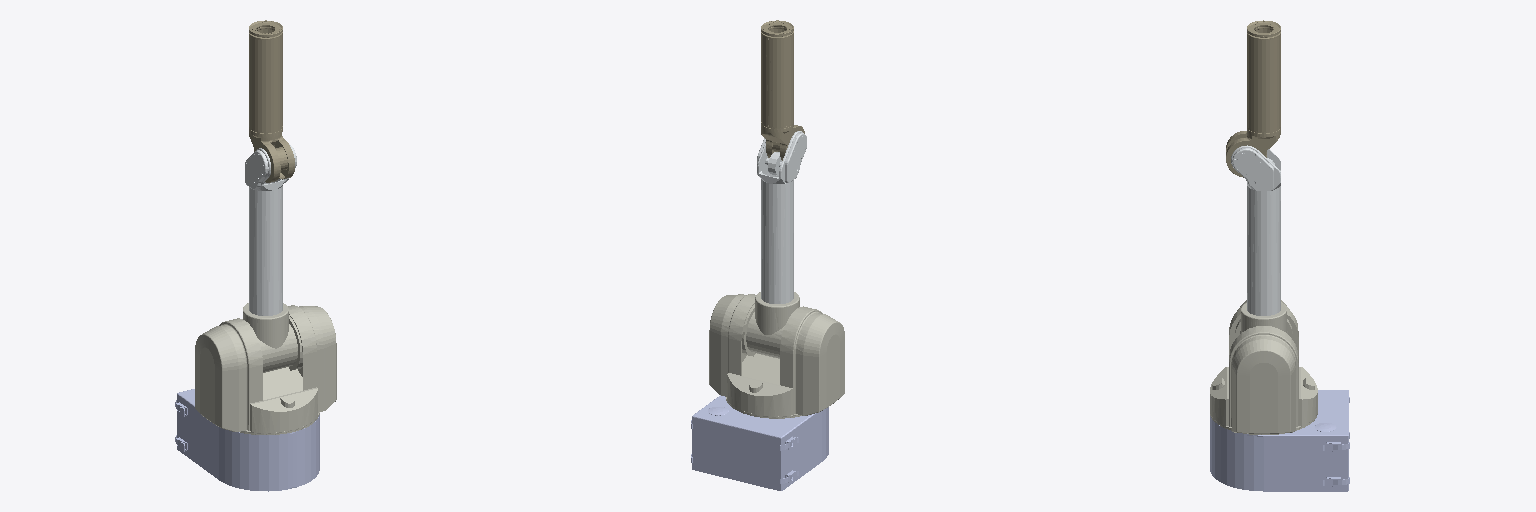
The robot description file, URDF, robot "wam4dof":
<?xml version="1.0" encoding="utf-8"?>
<!-- This URDF was automatically created by SolidWorks to URDF Exporter! Originally created by [author] ([email redacted]) 
     Commit Version: 1.5.1-0-g916b5db  Build Version: 1.5.7152.31018
     For more information, please see http://wiki.ros.org/sw_urdf_exporter -->
<robot
  name="wam4dof">
  <link
    name="base_link">
    <inertial>
      <origin
        xyz="3.40104668810698E-05 0.0736066059361039 -0.0587577266799806"
        rpy="0 0 0" />
      <mass
        value="13.5476126893973" />
      <inertia
        ixx="0.156470957074821"
        ixy="-4.03291630164834E-05"
        ixz="4.63998145785351E-05"
        iyy="0.214731752462203"
        iyz="0.00513845865911243"
        izz="0.108286175637366" />
    </inertial>
    <visual>
      <origin
        xyz="0 0 0"
        rpy="0 0 0" />
      <geometry>
        <mesh
          filename="package://wam_sim/launch/wam4dof/meshes/base_link.STL" />
      </geometry>
      <material
        name="">
        <color
          rgba="0.792156862745098 0.819607843137255 0.933333333333333 1" />
      </material>
    </visual>
    <collision>
      <origin
        xyz="0 0 0"
        rpy="0 0 0" />
      <geometry>
        <mesh
          filename="package://wam_sim/launch/wam4dof/meshes/base_link.STL" />
      </geometry>
    </collision>
  </link>
  <link
    name="FirstLink">
    <inertial>
      <origin
        xyz="2.53990162847128E-08 0.104881717494166 3.04922796016718E-09"
        rpy="0 0 0" />
      <mass
        value="17.3731551398704" />
      <inertia
        ixx="0.276162321852689"
        ixy="5.20061008372045E-08"
        ixz="7.60373821026883E-08"
        iyy="0.237968754825239"
        iyz="3.79403873882493E-09"
        izz="0.145688610159368" />
    </inertial>
    <visual>
      <origin
        xyz="0 0 0"
        rpy="0 0 0" />
      <geometry>
        <mesh
          filename="package://wam_sim/launch/wam4dof/meshes/FirstLink.STL" />
      </geometry>
      <material
        name="">
        <color
          rgba="0.796078431372549 0.796078431372549 0.752941176470588 1" />
      </material>
    </visual>
    <collision>
      <origin
        xyz="0 0 0"
        rpy="0 0 0" />
      <geometry>
        <mesh
          filename="package://wam_sim/launch/wam4dof/meshes/FirstLink.STL" />
      </geometry>
    </collision>
  </link>
  <joint
    name="q1"
    type="revolute">
    <origin
      xyz="0 0 0.16"
      rpy="1.5708 0 1.5708" />
    <parent
      link="base_link" />
    <child
      link="FirstLink" />
    <axis
      xyz="0 1 0" />
    <limit
      lower="-2.6"
      upper="2.6"
      effort="0"
      velocity="0" />
  </joint>
  <link
    name="SecondLink">
    <inertial>
      <origin
        xyz="-3.3073356588952E-06 0.0504592578779876 -1.9386722993241E-05"
        rpy="0 0 0" />
      <mass
        value="0.617554855470771" />
      <inertia
        ixx="0.00258552588913393"
        ixy="-1.52178232455456E-08"
        ixz="-4.72455503359287E-08"
        iyy="0.00186310872414462"
        iyz="3.58033312144958E-08"
        izz="0.00227630686304741" />
    </inertial>
    <visual>
      <origin
        xyz="0 0 0"
        rpy="0 0 0" />
      <geometry>
        <mesh
          filename="package://wam_sim/launch/wam4dof/meshes/SecondLink.STL" />
      </geometry>
      <material
        name="">
        <color
          rgba="0.796078431372549 0.796078431372549 0.752941176470588 1" />
      </material>
    </visual>
    <collision>
      <origin
        xyz="0 0 0"
        rpy="0 0 0" />
      <geometry>
        <mesh
          filename="package://wam_sim/launch/wam4dof/meshes/SecondLink.STL" />
      </geometry>
    </collision>
  </link>
  <joint
    name="q2"
    type="revolute">
    <origin
      xyz="0 0.186 0"
      rpy="3.1416 -1.5708 3.1416" />
    <parent
      link="FirstLink" />
    <child
      link="SecondLink" />
    <axis
      xyz="1 0 0" />
    <limit
      lower="-2"
      upper="2"
      effort="0"
      velocity="0" />
  </joint>
  <link
    name="ThirdLink">
    <inertial>
      <origin
        xyz="9.06095709371319E-06 0.79471468339664 -0.0130869016439969"
        rpy="0 0 0" />
      <mass
        value="1.38872635233445" />
      <inertia
        ixx="0.0300789785129619"
        ixy="-1.13635275781099E-06"
        ixz="2.68391703177075E-07"
        iyy="0.00292729996562077"
        iyz="0.00176956641651549"
        izz="0.0304265850675373" />
    </inertial>
    <visual>
      <origin
        xyz="0 0 0"
        rpy="0 0 0" />
      <geometry>
        <mesh
          filename="package://wam_sim/launch/wam4dof/meshes/ThirdLink.STL" />
      </geometry>
      <material
        name="">
        <color
          rgba="0.898039215686275 0.917647058823529 0.929411764705882 1" />
      </material>
    </visual>
    <collision>
      <origin
        xyz="0 0 0"
        rpy="0 0 0" />
      <geometry>
        <mesh
          filename="package://wam_sim/launch/wam4dof/meshes/ThirdLink.STL" />
      </geometry>
    </collision>
  </link>
  <joint
    name="q3"
    type="revolute">
    <origin
      xyz="0 -0.346 0"
      rpy="3.1416 0 -3.1416" />
    <parent
      link="SecondLink" />
    <child
      link="ThirdLink" />
    <axis
      xyz="0 1 0" />
    <limit
      lower="-2.8"
      upper="2.8"
      effort="0"
      velocity="0" />
  </joint>
  <link
    name="FourthLink">
    <inertial>
      <origin
        xyz="4.97245046301318E-07 0.0449944772820914 0.235880484538515"
        rpy="0 0 0" />
      <mass
        value="176061.840482555" />
      <inertia
        ixx="702.26848763124"
        ixy="-0.0381965038623444"
        ixz="-0.0039041419617575"
        iyy="702.827652770772"
        iyz="-0.0153100690126369"
        izz="299.798441788385" />
    </inertial>
    <visual>
      <origin
        xyz="0 0 0"
        rpy="0 0 0" />
      <geometry>
        <mesh
          filename="package://wam_sim/launch/wam4dof/meshes/FourthLink.STL" />
      </geometry>
      <material
        name="">
        <color
          rgba="0.666666666666667 0.63921568627451 0.556862745098039 1" />
      </material>
    </visual>
    <collision>
      <origin
        xyz="0 0 0"
        rpy="0 0 0" />
      <geometry>
        <mesh
          filename="package://wam_sim/launch/wam4dof/meshes/FourthLink.STL" />
      </geometry>
    </collision>
  </link>
  <link name="bhand_ftsensor">
    <inertial>
  	  <mass value="0.06864753"/>
	  <origin xyz="0 0 0" />  
	  <inertia ixx="1.0" ixy="0.0" ixz="0.0" iyy="1.0" iyz="0.0" izz="1.0"/>
	</inertial>
	<visual>
      <origin rpy="0 0 0" xyz="0 0 0"/>
      <geometry name="link_bhand_ftsensor_visual">
        <mesh filename="package://wam_sim/launch/wam7dof/meshes/bhand_ftsensor.mesh" />
      </geometry>
      <material
        name="">
        <color
          rgba="0.792156862745098 0.819607843137255 0.933333333333333 1" />
      </material>
    </visual>
    <collision>
      <origin rpy="0 0 0" xyz="0 0 0"/>
      <geometry name="link_bhand_ftsensor_collision">
        <mesh filename="package://wam_sim/launch/wam7dof/meshes/bhand_ftsensor.mesh" />
      </geometry>
      <contact_coefficients kd="1.0" kp="1000.0" mu="0"/>
    </collision>
  </link>  
  <joint
    name="q4"
    type="revolute">
    <origin
      xyz="0 0.896 -0.045"
      rpy="1.5706 0 3.1416" />
    <parent
      link="ThirdLink" />
    <child
      link="FourthLink" />
    <axis
      xyz="1 0 0" />
    <limit
      lower="-0.9"
      upper="3.1"  
      effort="0"
      velocity="0" />
  </joint>
  <joint name="bhand_ftsensor_joint" type="fixed">
    <parent link="FourthLink"/>
    <child link="bhand_ftsensor" />
    <origin xyz="0 0.045 0.355" rpy="1.5706 0 0" />
  </joint>
</robot>

--- Render facts (derived) ---
Views: 3 orthographic renders of the robot side by side, from view 1: azimuth 30°, elevation 25°; view 2: azimuth 150°, elevation 25°; view 3: azimuth 270°, elevation 25°.
Robot: wam4dof — 6 links, 5 joints (4 revolute, 1 fixed); root link base_link; default pose: every joint at zero.
Visible links, largest first — view 1: FirstLink, base_link, ThirdLink, FourthLink, SecondLink; view 2: FirstLink, base_link, ThirdLink, FourthLink, SecondLink; view 3: FirstLink, base_link, ThirdLink, FourthLink, SecondLink.
Boxes of the visible links, x1,y1,x2,y2 form: FirstLink: (195,305,336,434); base_link: (175,389,319,491); ThirdLink: (245,144,296,315); FourthLink: (249,20,294,182); SecondLink: (243,303,297,372); FirstLink: (709,294,844,418); base_link: (691,395,828,490); ThirdLink: (757,131,806,303); FourthLink: (761,20,804,160); SecondLink: (746,292,799,358); FirstLink: (1210,300,1317,434); base_link: (1210,390,1349,491); ThirdLink: (1231,145,1280,315); FourthLink: (1226,20,1280,177); SecondLink: (1240,303,1287,333).
Bounding box of the posed robot: 0.3476 × 0.3634 × 1.26 m (x, y, z).
5 mesh visuals loaded from 6 distinct referenced files (5 binary STL); not drawn: 1 (reference not matched to a file when rendering).
